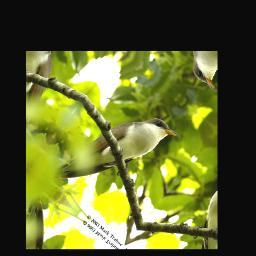Cuckoo: (49, 85, 182, 224)
